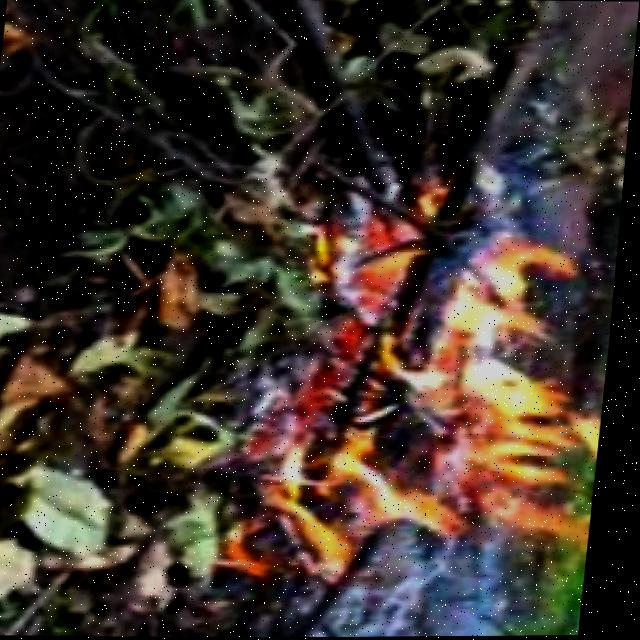Fire: (276, 200, 626, 572)
